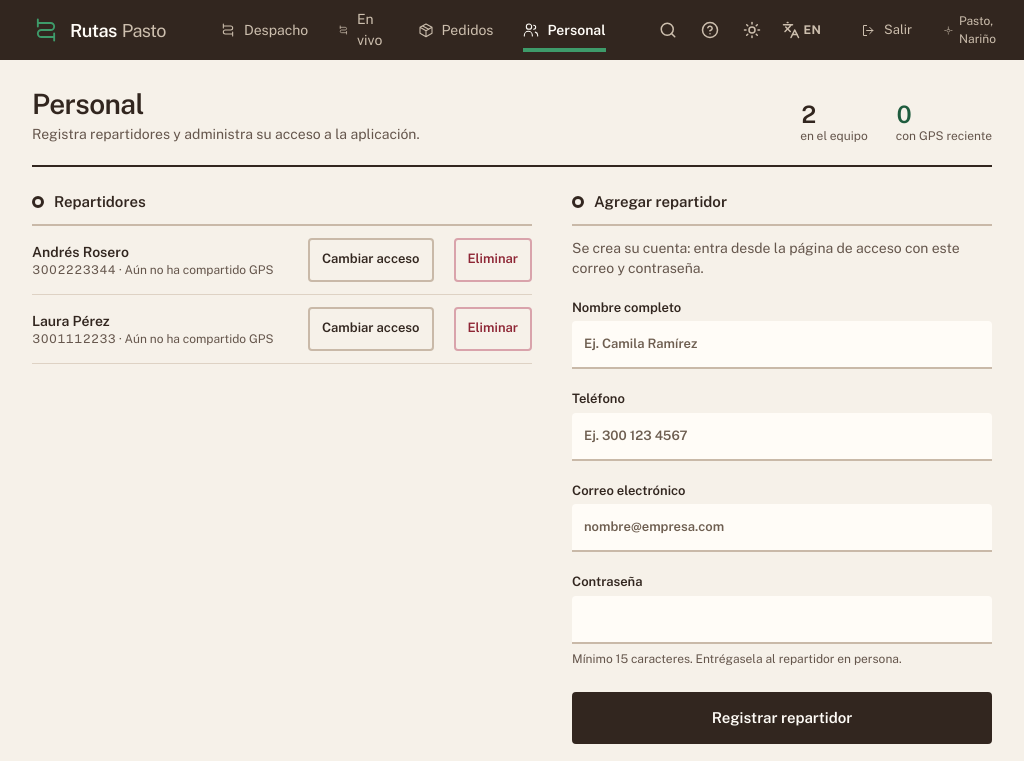
Test: elimina un repartidor solo tras confirmar y explica cuando tiene historial
Click the button with aria-label "Eliminar a Laura Pérez" at (493, 329), box [454,307,532,351]
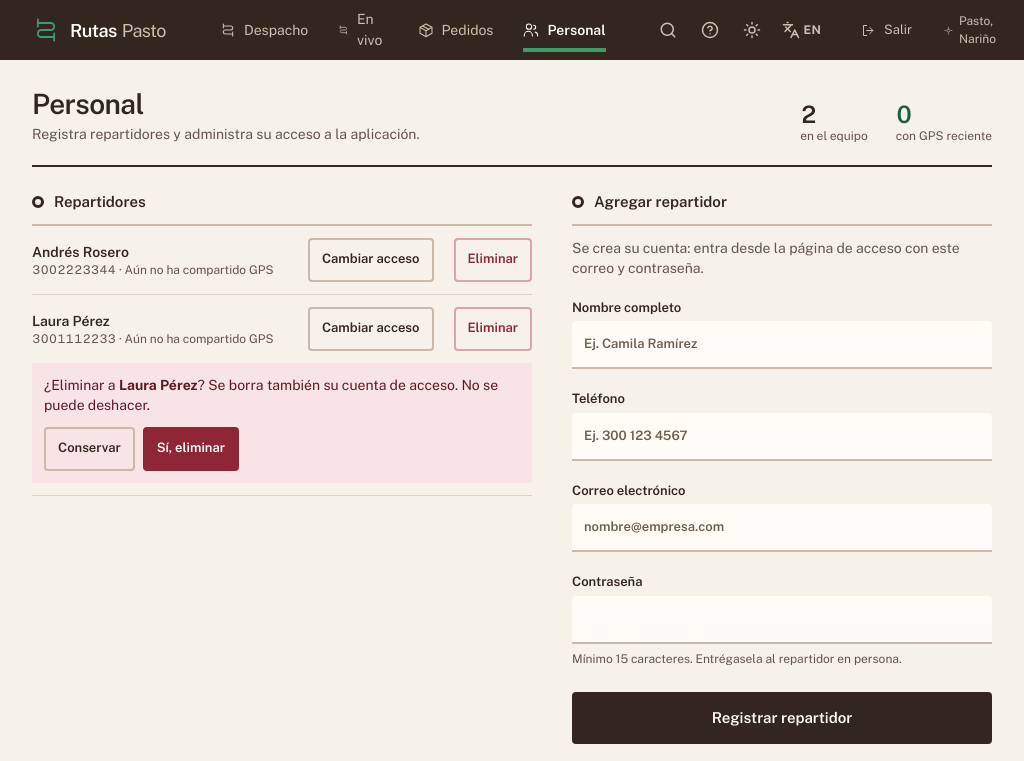
Click the button "Conservar" at (89, 449), box [44,427,135,471]
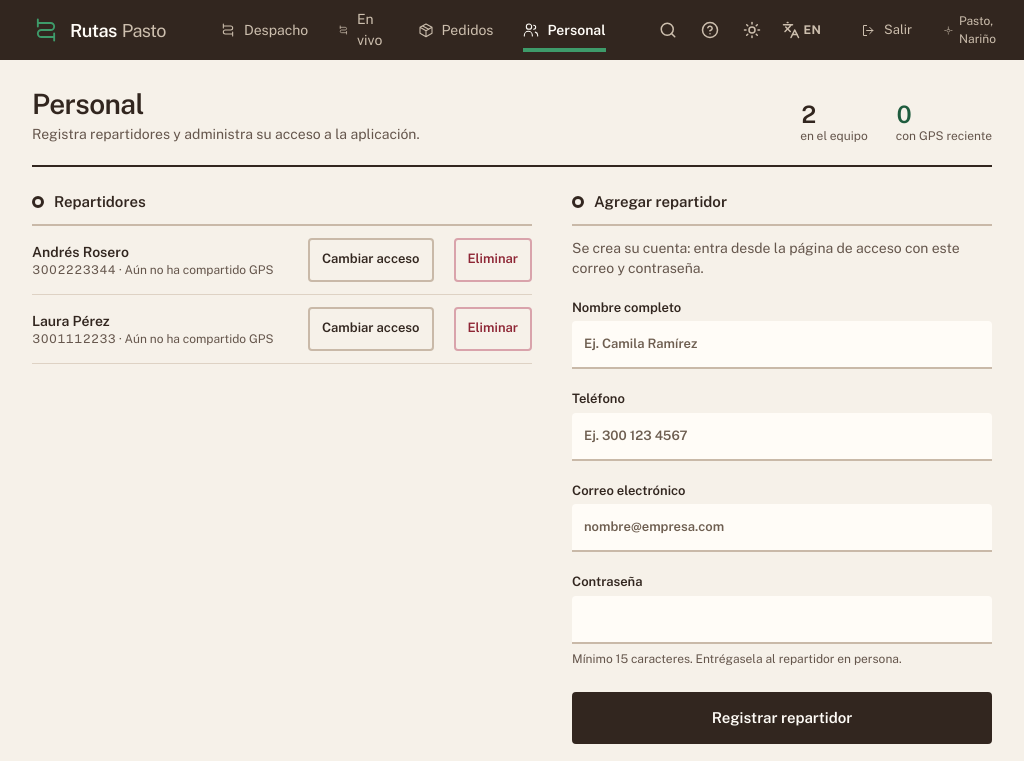
Click the button with aria-label "Eliminar a Laura Pérez" at (493, 329), box [454,307,532,351]
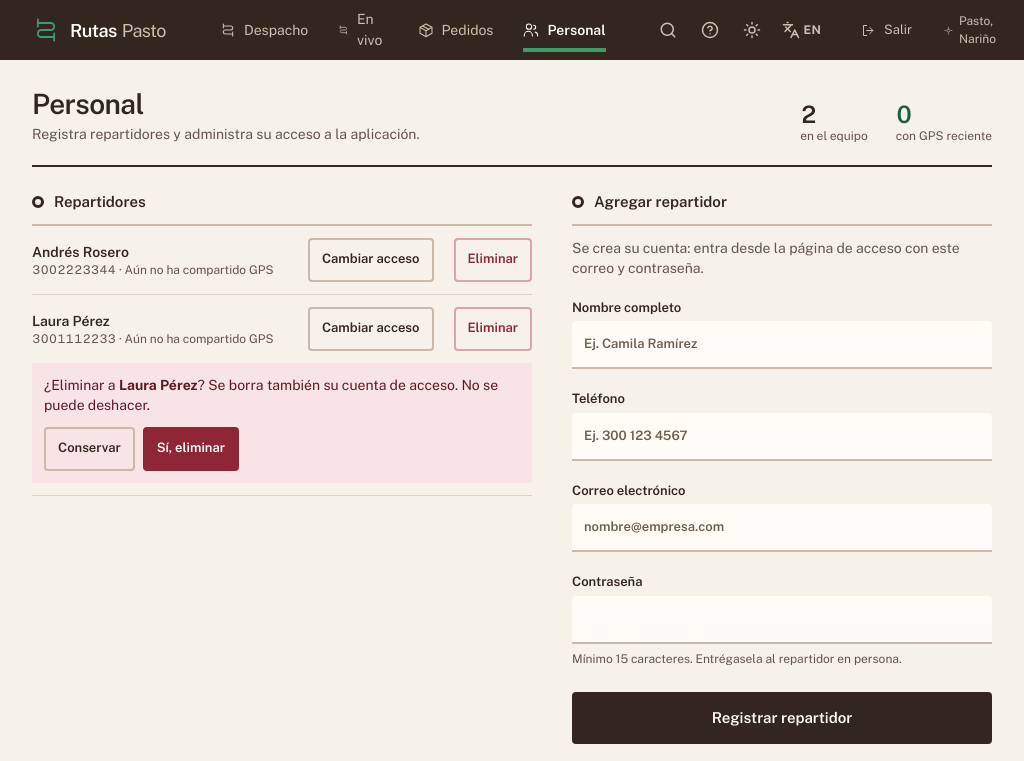
Click the button "Sí, eliminar" at (191, 449), box [143,427,239,471]
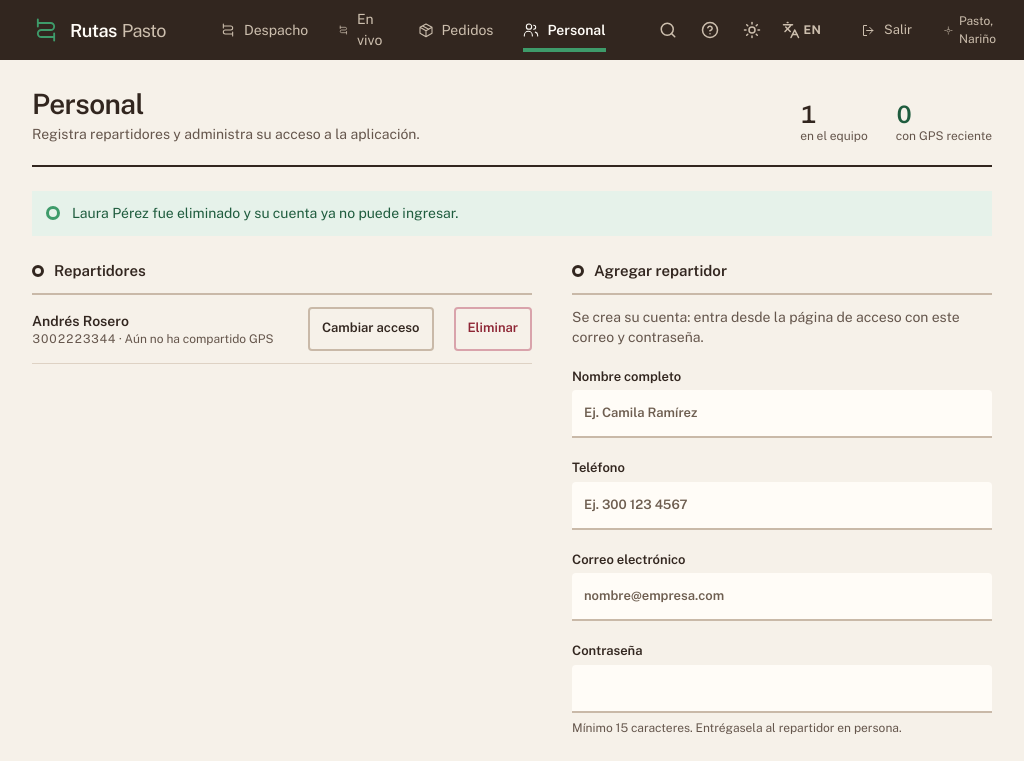
Expected: the message shows "Laura Pérez fue eliminado", [72,205,458,221]
Click the button with aria-label "Eliminar a Andrés Rosero" at (493, 329), box [454,307,532,351]
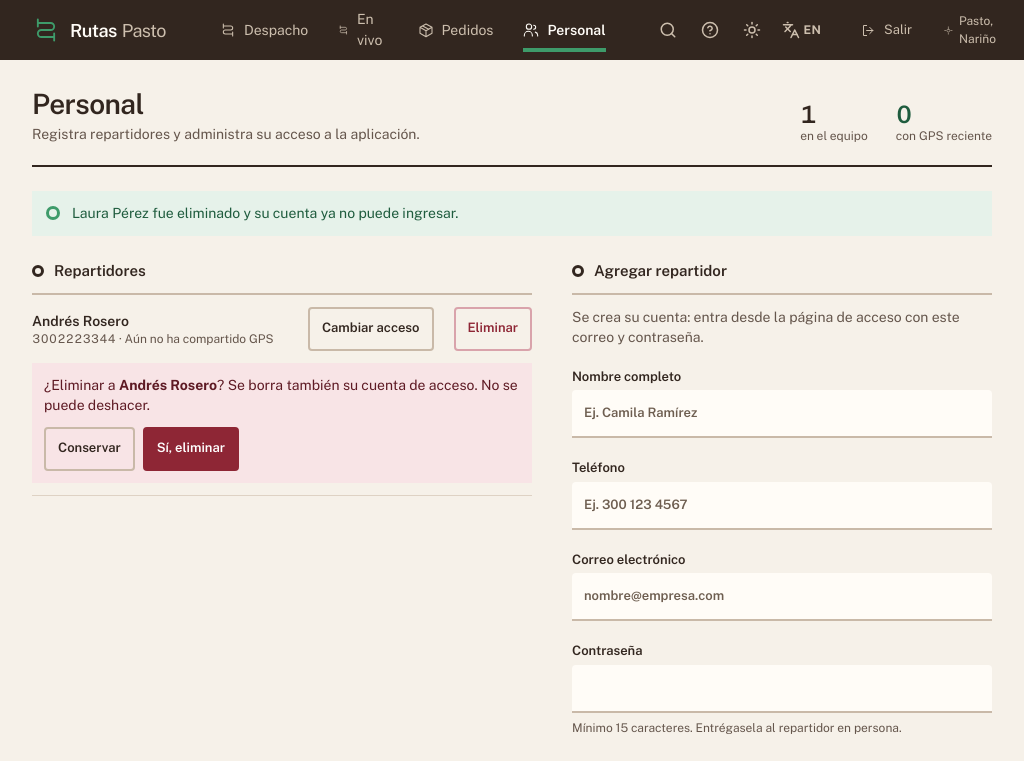
Click the button "Sí, eliminar" at (191, 449), box [143,427,239,471]
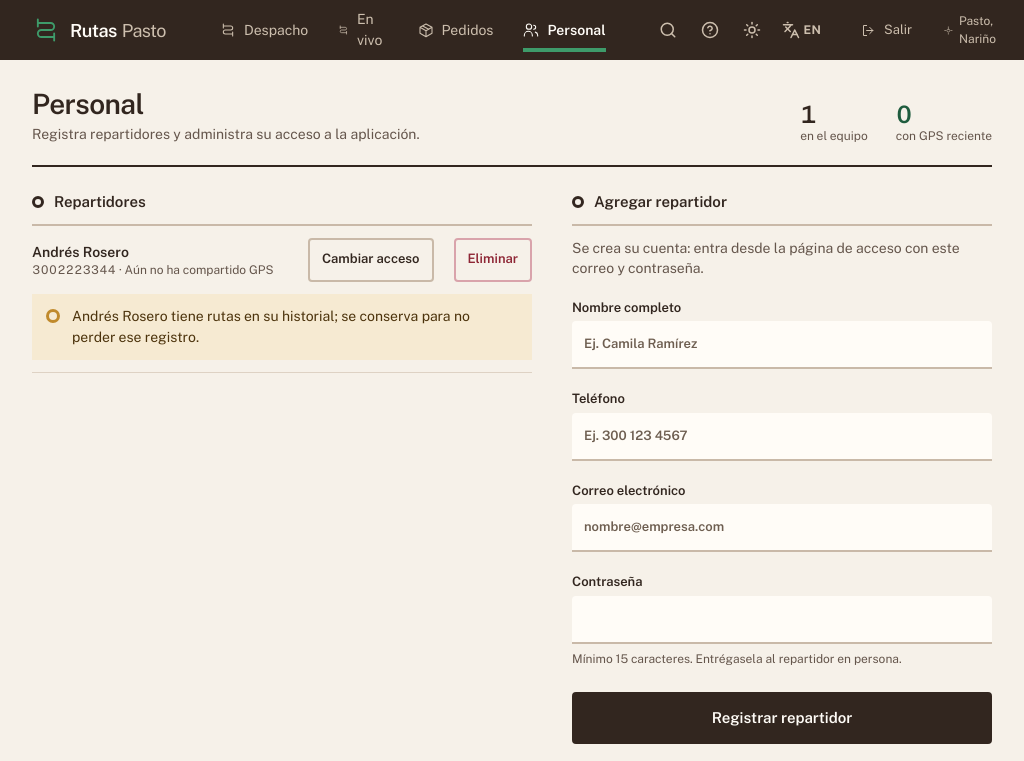
Expected: the text "Andrés Rosero" is shown, [32,244,129,260]
Expected: the message shows "tiene rutas en su historial", [72,308,470,345]
